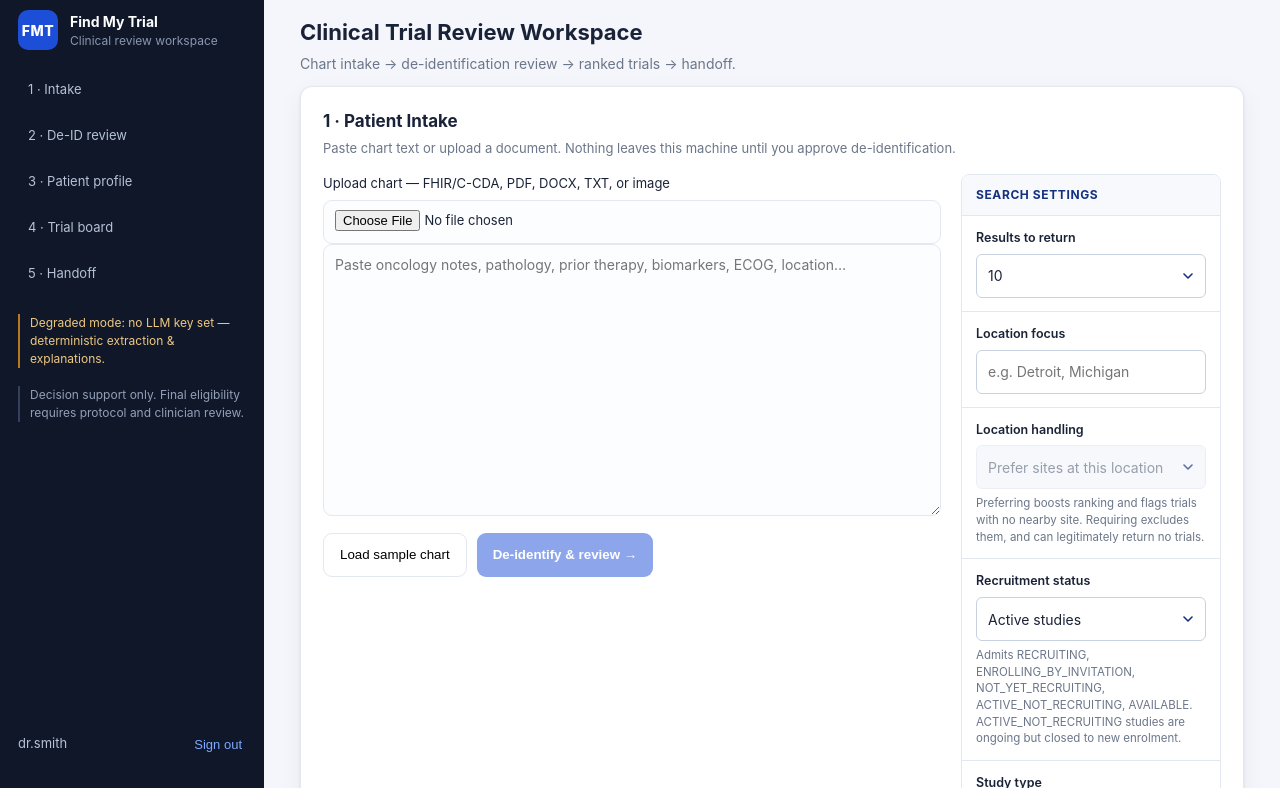
screen-reader announcements › announces work in progress via a polite status region
expect the heading "Clinical Trial Review Workspace" is shown: met, box [300,19,643,45]
Replace the text in the text box named "chart text" with "chart" at (632,380), box [323,244,941,516]
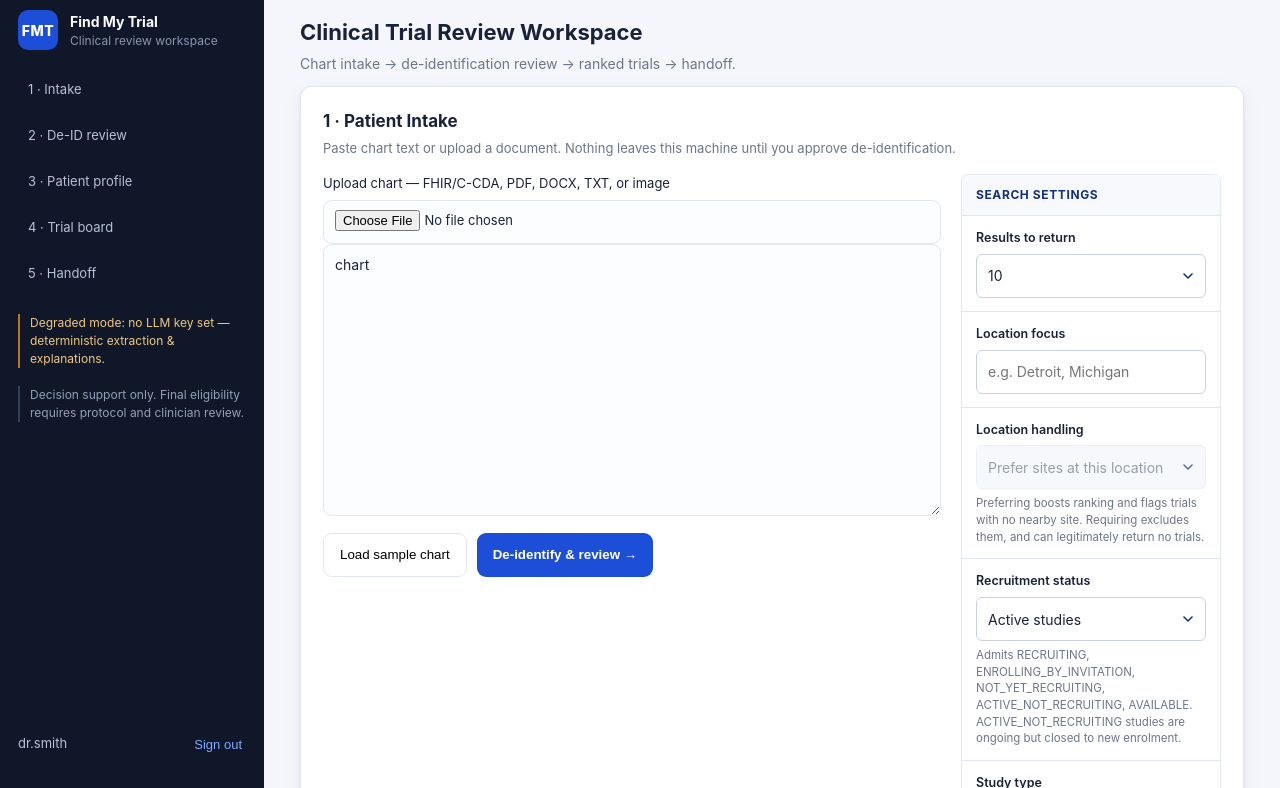
Click the button "De-identify & review →".
click(565, 554)  # box [477,532,653,576]
(page scrolled)
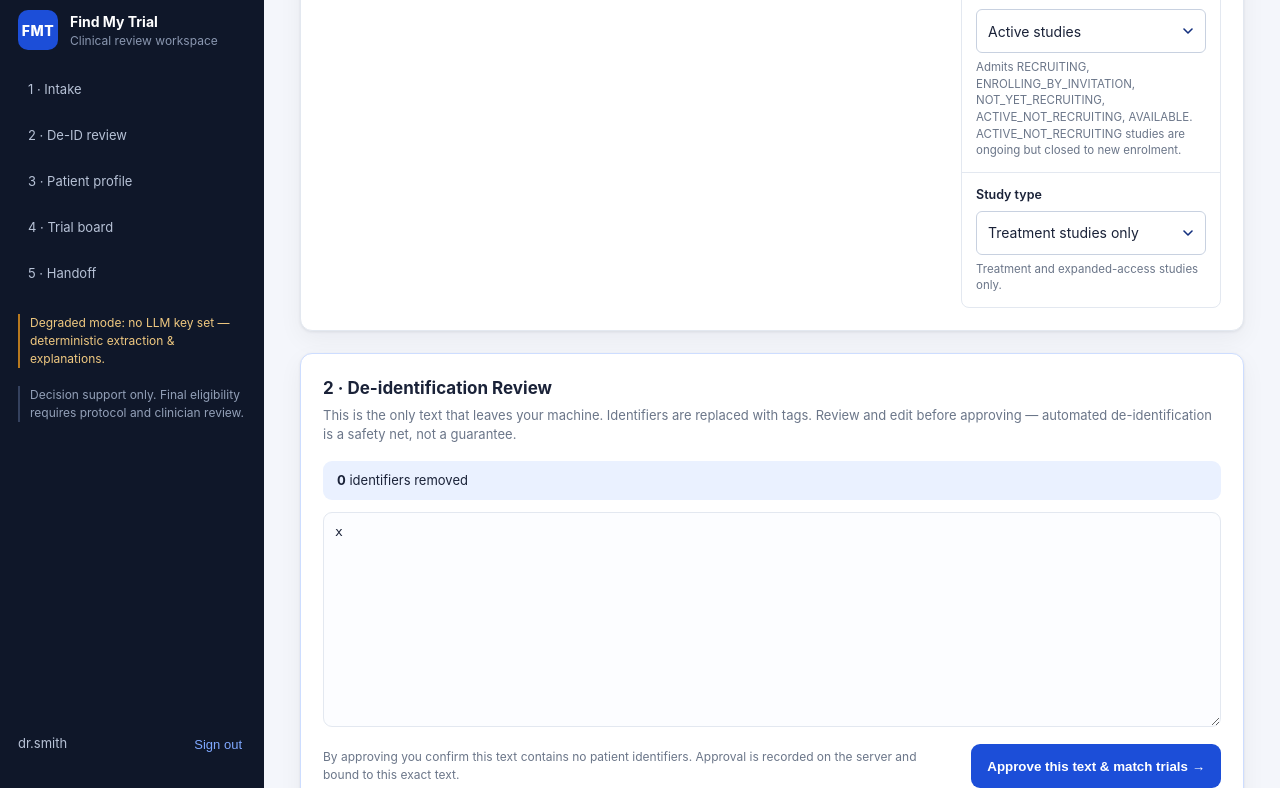
expect the heading "2 · De-identification Review" is shown: met, box [323,378,552,398]
